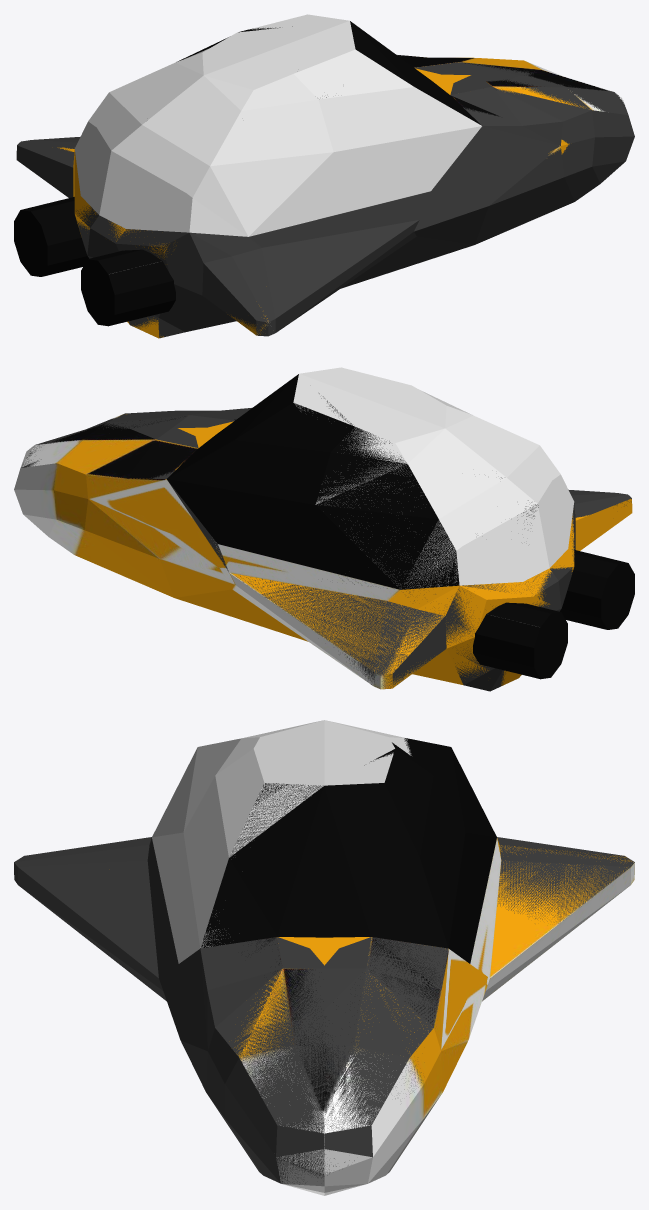
The model's file is spaceship_v2.fbx.
3 renders of one model, top to bottom at view 1: azimuth 30°, elevation 25°; view 2: azimuth 150°, elevation 25°; view 3: azimuth 270°, elevation 25°, orthographic. The views are drawn at different scales.
Visible parts, largest first — view 1: original(hide), boosters, Spaceship, GLASS; view 2: original(hide), Spaceship, GLASS, boosters; view 3: original(hide), GLASS, Spaceship.
Part boxes in pixels (x1,y1,x2,y2): original(hide): (16, 14, 634, 337); boosters: (14, 197, 175, 326); Spaceship: (57, 55, 625, 338); GLASS: (177, 21, 481, 125); original(hide): (21, 367, 631, 691); Spaceship: (14, 414, 632, 689); GLASS: (167, 374, 538, 589); boosters: (473, 550, 634, 679); original(hide): (14, 720, 634, 1184); GLASS: (200, 738, 496, 963); Spaceship: (234, 838, 634, 1195).
Bounding box in the file's own units: 227 × 97.6 × 173.
7 materials, 4 textured.
